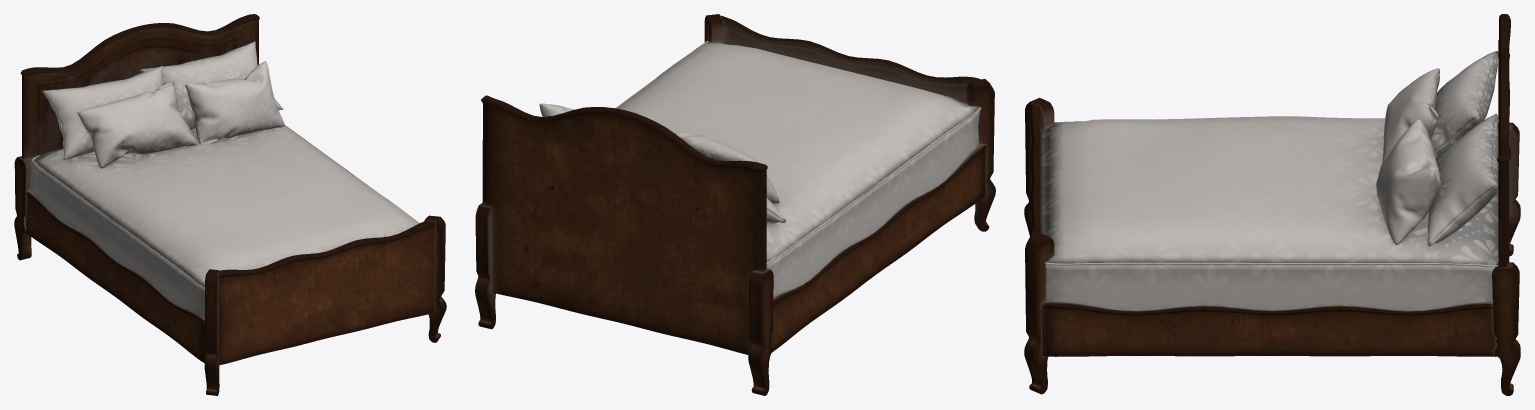
Rendered from Bed.glb.
3 views of the same model, side by side, from view 1: azimuth 30°, elevation 25°; view 2: azimuth 150°, elevation 25°; view 3: azimuth 270°, elevation 25° (orthographic). The views are drawn at different scales.
Parts seen in each view (by area): view 1: victorian_bed_wood_bed_wood_material_0, victorian_bed_mattres_bed_mattres_material_0, pollows_bed_pillow_material_0; view 2: victorian_bed_wood_bed_wood_material_0, victorian_bed_mattres_bed_mattres_material_0, pollows_bed_pillow_material_0; view 3: victorian_bed_mattres_bed_mattres_material_0, victorian_bed_wood_bed_wood_material_0, pollows_bed_pillow_material_0.
Part boxes in pixels (x1,y1,x2,y2): victorian_bed_wood_bed_wood_material_0: (14,14,446,395); victorian_bed_mattres_bed_mattres_material_0: (30,125,419,317); pollows_bed_pillow_material_0: (42,41,284,168); victorian_bed_wood_bed_wood_material_0: (475,14,995,395); victorian_bed_mattres_bed_mattres_material_0: (615,40,981,297); pollows_bed_pillow_material_0: (539,103,785,223); victorian_bed_mattres_bed_mattres_material_0: (1042,116,1498,311); victorian_bed_wood_bed_wood_material_0: (1024,14,1520,395); pollows_bed_pillow_material_0: (1376,51,1498,246).
Size of the model in its own units: 2.13 by 1.73 by 3.01.
Materials: 3 (3 with a texture image).
